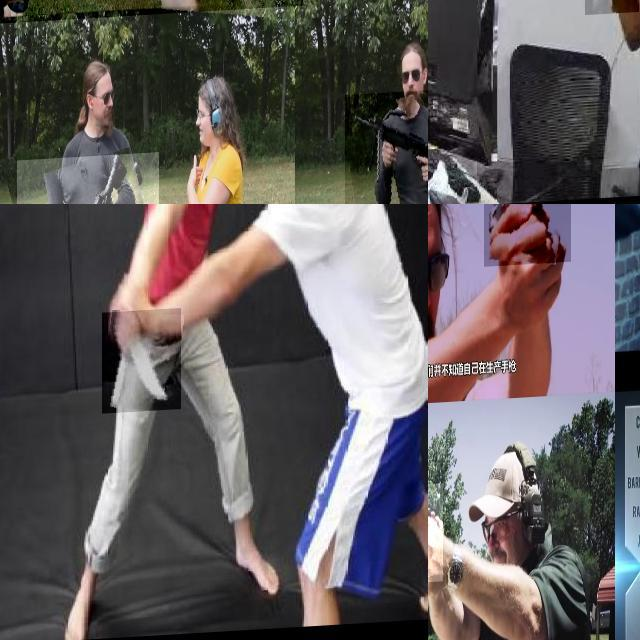-: (102, 311, 181, 416), (585, 0, 638, 44)
gun-knife-thesis - v11 Yolov5 augmented: (0, 0, 302, 150), (345, 93, 428, 204), (16, 154, 159, 204), (484, 204, 570, 281), (428, 485, 459, 586)
